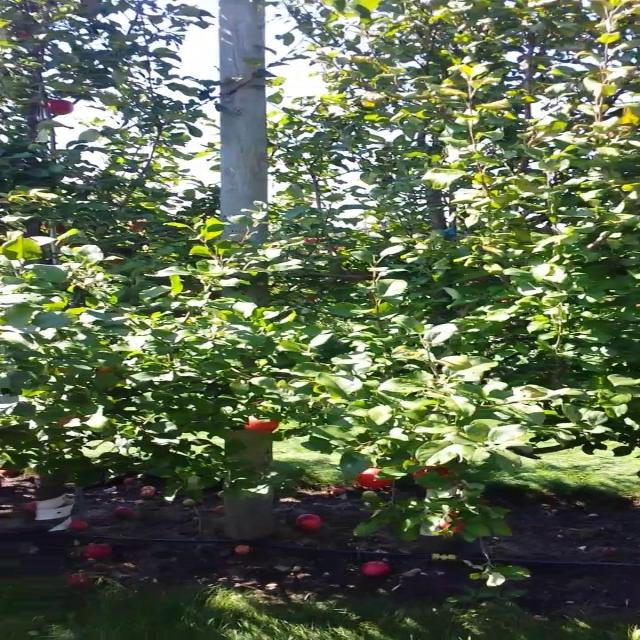apple: (248, 416, 283, 436), (362, 468, 393, 490), (440, 516, 469, 535), (412, 468, 452, 480), (49, 100, 78, 116), (56, 416, 78, 427), (13, 32, 34, 40), (99, 368, 112, 375)
